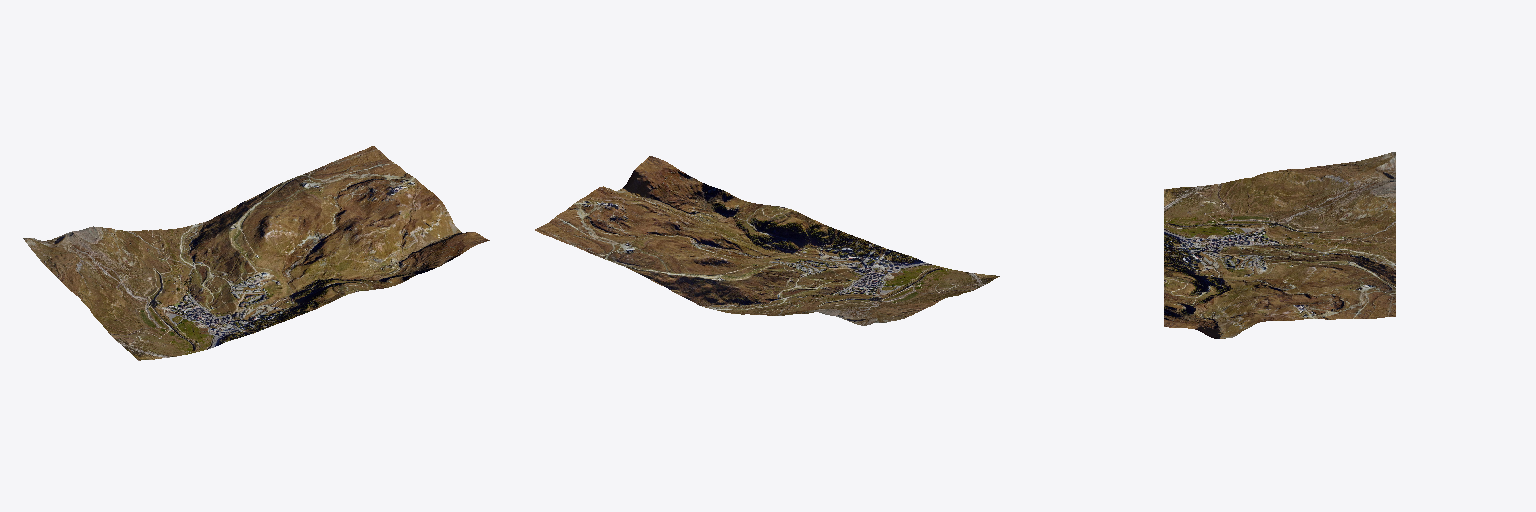
3 renders of one model, left to right at view 1: azimuth 30°, elevation 25°; view 2: azimuth 150°, elevation 25°; view 3: azimuth 270°, elevation 25°, orthographic.
Parts seen in each view (by area): view 1: EXPORT_GOOGLE_SAT_WM.007; view 2: EXPORT_GOOGLE_SAT_WM.007; view 3: EXPORT_GOOGLE_SAT_WM.007.
Part boxes in pixels (x1,y1,x2,y2): EXPORT_GOOGLE_SAT_WM.007: (23,146,489,360); EXPORT_GOOGLE_SAT_WM.007: (535,156,999,325); EXPORT_GOOGLE_SAT_WM.007: (1164,152,1395,338).
Size of the model in its own units: 5323 by 731 by 3041.
Materials: 1 (1 with a texture image).